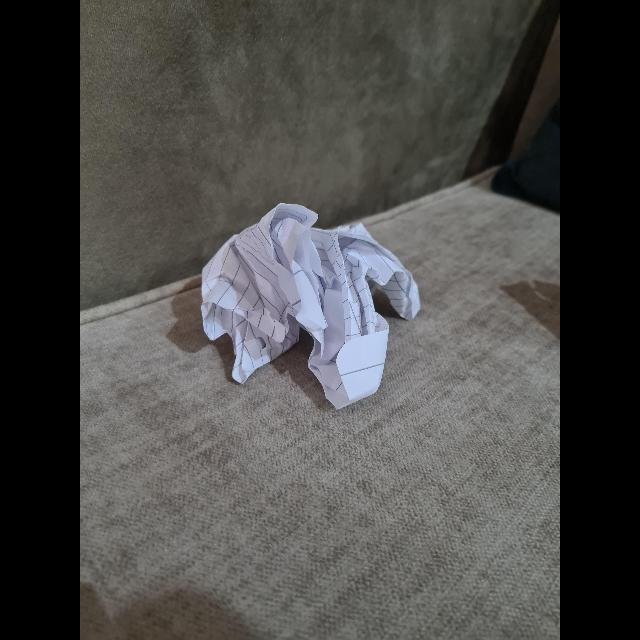scrap_paper: (198, 201, 418, 407)
